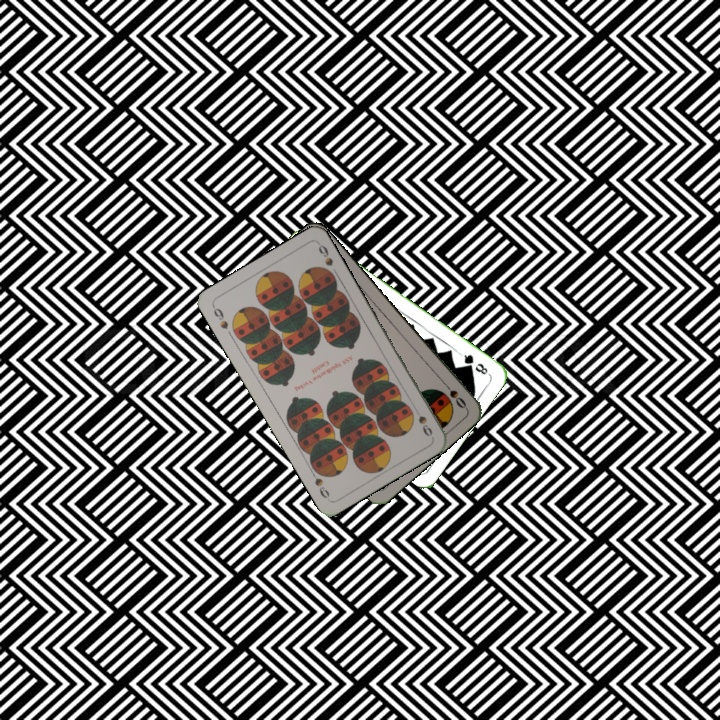G8: (456, 349, 490, 377)
S9: (410, 402, 435, 439), (209, 302, 231, 332)
SO: (438, 377, 469, 411)
